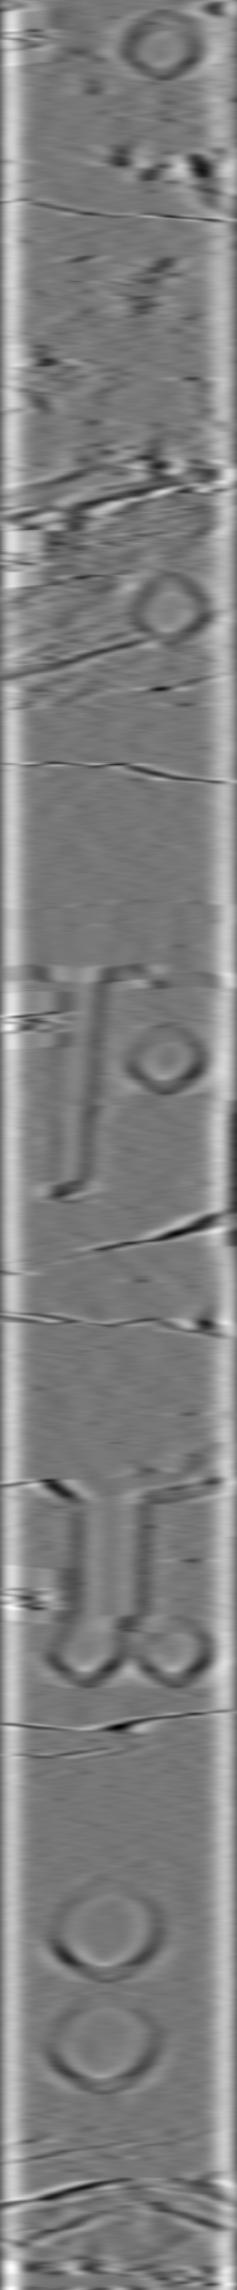hplug: (124, 565, 217, 656), (118, 1014, 212, 1103), (113, 7, 212, 85), (42, 1617, 127, 1696), (135, 1617, 217, 1696)
scal: (42, 1983, 170, 2099), (45, 1869, 165, 1982)
vplug: (35, 981, 110, 1208), (66, 1465, 152, 1617)
